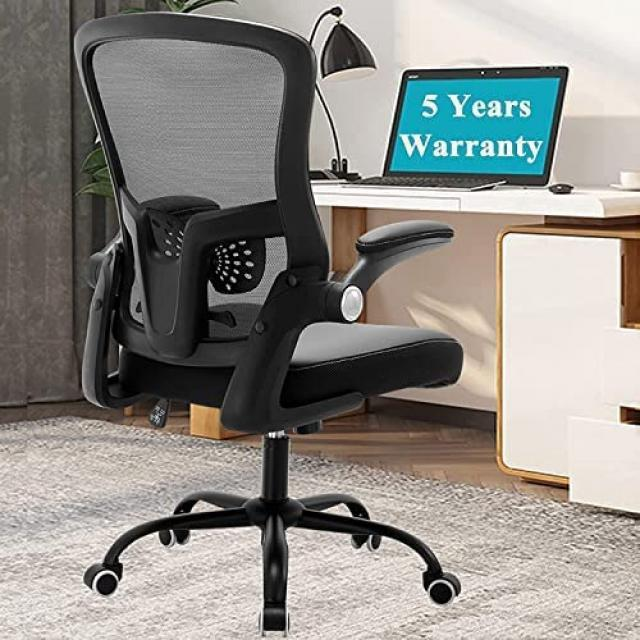chair: (72, 9, 462, 640)
